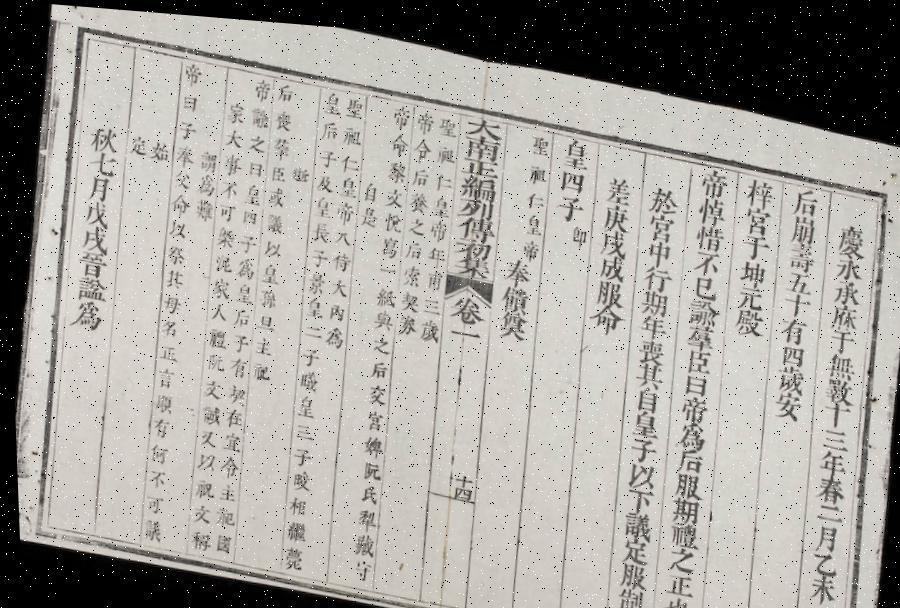c: (444, 284, 485, 320), (832, 205, 868, 245), (64, 296, 104, 332), (454, 164, 497, 196), (459, 125, 501, 156), (452, 206, 494, 237), (585, 292, 623, 326), (740, 162, 776, 197), (644, 170, 680, 205), (801, 557, 836, 593), (492, 300, 529, 334), (766, 376, 802, 410), (84, 120, 120, 154), (694, 154, 730, 188), (692, 182, 728, 216), (557, 126, 591, 162), (670, 407, 706, 441), (780, 227, 816, 261), (682, 284, 719, 317), (462, 106, 504, 135), (786, 170, 821, 204), (809, 458, 844, 492), (74, 220, 110, 253), (498, 246, 532, 280), (495, 274, 530, 307), (770, 349, 805, 382), (600, 162, 633, 197), (664, 482, 700, 514), (728, 294, 764, 326), (690, 210, 726, 242), (616, 498, 652, 530), (636, 251, 672, 283), (72, 246, 108, 278), (818, 361, 854, 393), (457, 147, 501, 173), (69, 272, 107, 302), (454, 188, 496, 215), (450, 228, 492, 255), (598, 191, 632, 224), (738, 192, 772, 225), (812, 433, 847, 465), (736, 218, 771, 250), (622, 423, 658, 454), (628, 349, 664, 380), (666, 458, 702, 489), (449, 246, 490, 273), (673, 382, 707, 414), (621, 449, 655, 481), (660, 532, 694, 564), (784, 200, 818, 232), (820, 336, 855, 367), (827, 262, 862, 293), (828, 239, 864, 269), (680, 310, 716, 340), (662, 508, 698, 538), (552, 182, 584, 215), (807, 506, 838, 540), (734, 244, 768, 275), (774, 302, 808, 333), (642, 201, 676, 232), (83, 146, 118, 176), (814, 410, 850, 439), (591, 268, 624, 299), (636, 276, 669, 307), (595, 219, 629, 249), (658, 558, 692, 588), (78, 196, 112, 226), (614, 524, 648, 554), (612, 550, 646, 580), (777, 277, 812, 306), (680, 334, 712, 365), (670, 434, 703, 464), (825, 288, 858, 318), (626, 398, 659, 428), (609, 575, 642, 605), (442, 316, 480, 342), (824, 312, 856, 342), (686, 260, 718, 290), (632, 324, 664, 354), (732, 270, 764, 300), (82, 170, 112, 202), (594, 243, 627, 272), (816, 388, 850, 416), (780, 255, 814, 283), (633, 302, 667, 330), (655, 581, 690, 608), (688, 237, 720, 266), (344, 523, 374, 553), (629, 373, 659, 403), (641, 227, 672, 256), (804, 535, 836, 563), (620, 476, 652, 504), (556, 158, 588, 186), (809, 486, 843, 512), (275, 538, 304, 568), (774, 328, 806, 355), (278, 511, 307, 540), (135, 512, 162, 542), (678, 360, 708, 386), (284, 460, 310, 490), (344, 549, 371, 577), (349, 499, 376, 527), (387, 96, 413, 125), (414, 309, 440, 338), (147, 386, 174, 413), (370, 277, 397, 304), (182, 523, 209, 550), (281, 487, 308, 514), (256, 254, 282, 282), (178, 56, 204, 84), (202, 320, 228, 348), (526, 122, 552, 150), (262, 178, 288, 206), (212, 448, 238, 476), (293, 361, 319, 389), (356, 426, 382, 454), (382, 152, 408, 180), (150, 360, 175, 389), (386, 124, 410, 154), (159, 262, 185, 289), (142, 462, 168, 489), (142, 436, 168, 463), (360, 374, 386, 401), (211, 220, 237, 247), (206, 270, 232, 297), (187, 472, 214, 498), (522, 152, 548, 179), (195, 397, 221, 424), (341, 88, 366, 116), (267, 129, 292, 157), (217, 146, 242, 174), (409, 129, 433, 158), (189, 191, 214, 218), (363, 350, 388, 377), (368, 301, 393, 328), (246, 99, 271, 126), (331, 192, 355, 220), (519, 202, 543, 230), (398, 256, 422, 284), (424, 210, 448, 238), (248, 328, 273, 354), (260, 205, 285, 231), (138, 487, 163, 513), (434, 107, 459, 133), (338, 118, 363, 144), (190, 445, 216, 470), (208, 499, 233, 525), (301, 264, 326, 290), (395, 282, 420, 308), (412, 102, 436, 129), (171, 138, 195, 165), (420, 260, 444, 287), (320, 83, 343, 111), (292, 386, 315, 414), (520, 179, 545, 204), (192, 168, 216, 194), (310, 189, 334, 215), (336, 144, 360, 170), (270, 103, 294, 129), (222, 96, 246, 122), (320, 318, 344, 344), (231, 250, 255, 276), (307, 213, 331, 239), (162, 238, 186, 264), (516, 228, 540, 254), (194, 144, 218, 170), (166, 188, 190, 214), (405, 182, 429, 208), (376, 228, 400, 254), (249, 71, 272, 98), (258, 232, 283, 256), (289, 413, 314, 437), (174, 113, 198, 138), (153, 337, 178, 361), (300, 289, 324, 314), (355, 198, 379, 223), (216, 425, 240, 450), (145, 411, 169, 436), (360, 401, 384, 426), (379, 203, 403, 228), (380, 179, 404, 204), (565, 214, 588, 240), (407, 158, 430, 184), (221, 376, 244, 402), (394, 306, 417, 332), (335, 168, 358, 194), (296, 339, 320, 363), (200, 346, 224, 370), (198, 373, 222, 397), (146, 136, 170, 160), (287, 439, 311, 463), (186, 497, 210, 521), (209, 247, 233, 271), (223, 350, 246, 375), (227, 300, 250, 325), (230, 276, 253, 301), (226, 325, 249, 350), (234, 226, 257, 251), (240, 176, 262, 202), (428, 186, 450, 212), (423, 236, 446, 260), (430, 163, 453, 187), (366, 327, 390, 350), (158, 290, 182, 313), (273, 76, 296, 100), (246, 354, 269, 378), (356, 453, 380, 476), (221, 122, 244, 146), (254, 282, 277, 306), (216, 174, 239, 198), (218, 401, 241, 425), (318, 113, 340, 138), (244, 127, 267, 150), (432, 136, 455, 159), (316, 140, 338, 164), (306, 240, 328, 264), (126, 130, 148, 154), (213, 476, 235, 500), (164, 214, 188, 236), (208, 527, 230, 551), (250, 304, 274, 326), (328, 244, 350, 268), (354, 475, 376, 499), (400, 232, 422, 256), (324, 270, 348, 292), (359, 172, 379, 198), (214, 197, 236, 220), (417, 288, 440, 310), (156, 313, 177, 337), (205, 298, 227, 320), (299, 315, 322, 336), (313, 166, 334, 189), (170, 165, 191, 188), (404, 208, 425, 230), (236, 203, 259, 223), (373, 254, 397, 273), (324, 295, 344, 317), (288, 158, 310, 178), (266, 157, 286, 179), (329, 221, 351, 241), (194, 424, 214, 446), (244, 154, 264, 175), (178, 90, 198, 108), (605, 598, 640, 608), (449, 464, 470, 480), (448, 476, 468, 492), (652, 607, 688, 608)
